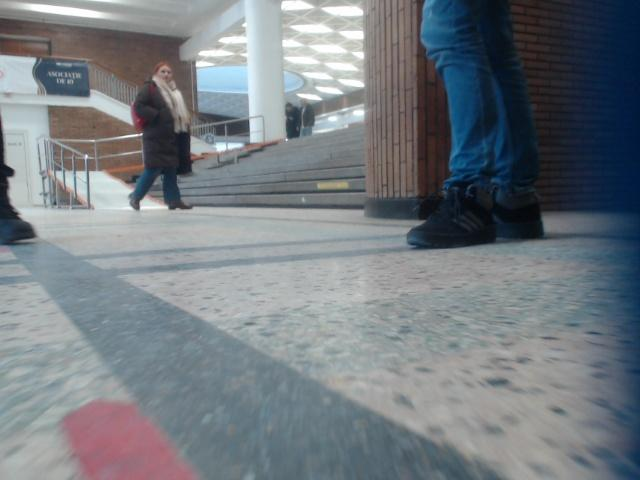rampUp: (56, 171, 131, 209), (141, 196, 164, 206)
ramps-railing: (38, 134, 141, 208), (105, 147, 141, 158)
